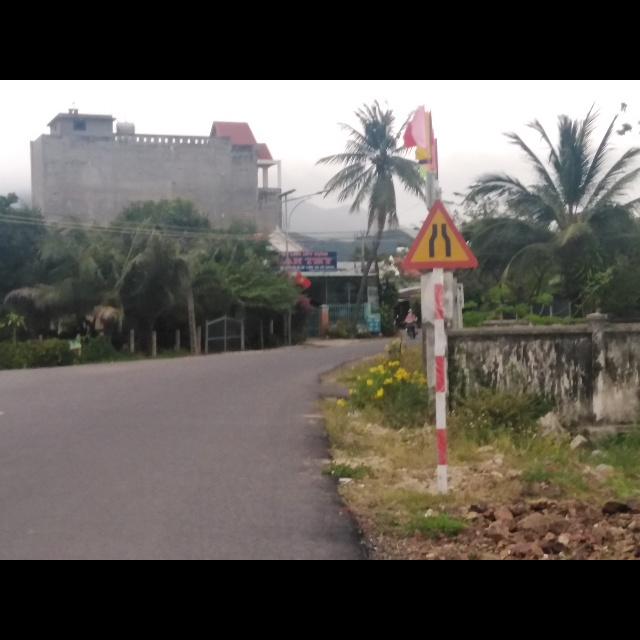Đường bị hẹp cả hai bên: (403, 199, 481, 271)
